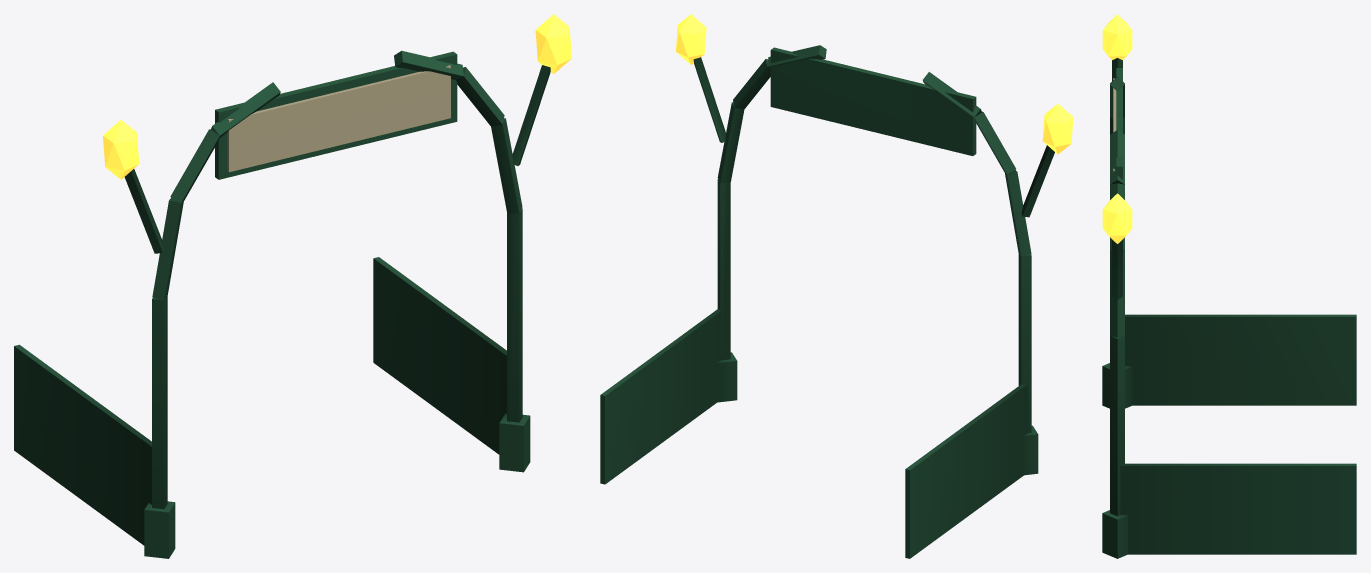
File: pa_metro_lo-DostTMOU.glb
3 views of the same model, side by side, from view 1: azimuth 30°, elevation 25°; view 2: azimuth 150°, elevation 25°; view 3: azimuth 270°, elevation 25° (orthographic). The views are drawn at different scales.
Bounding box in the file's own units: 4.19 × 3.81 × 2.34.
